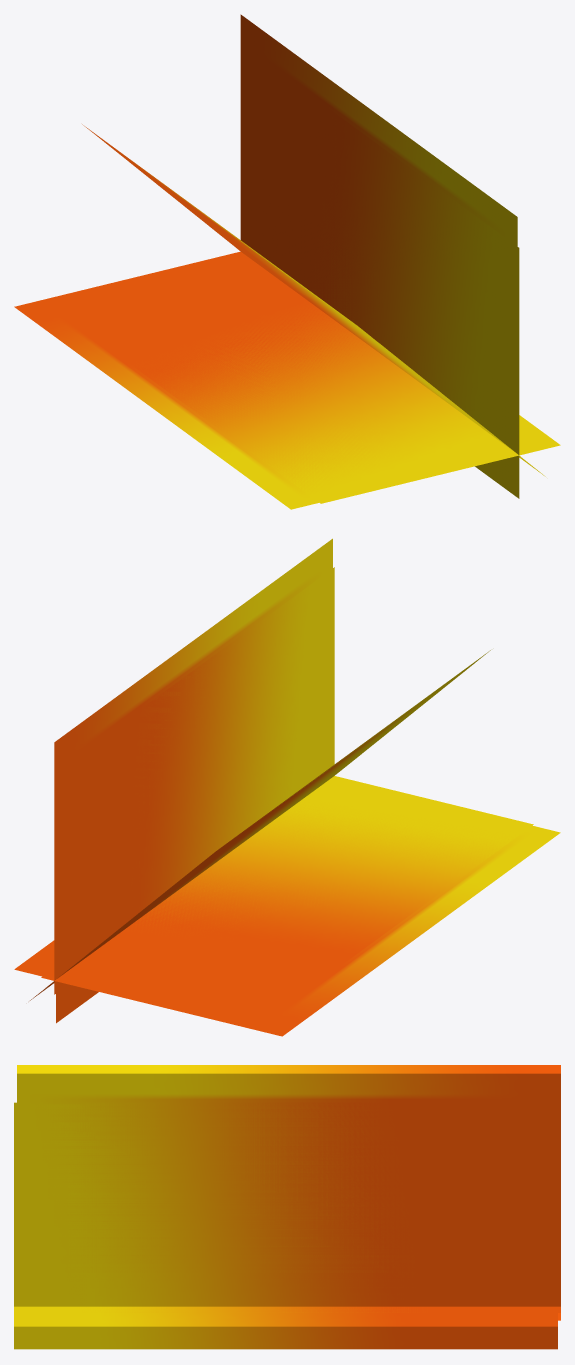
Rendered from SPARK.glb.
3 views of the same model, one above another, from view 1: azimuth 30°, elevation 25°; view 2: azimuth 150°, elevation 25°; view 3: azimuth 270°, elevation 25° (orthographic). The views are drawn at different scales.
Visible parts, largest first — view 1: Model; view 2: Model; view 3: Model.
Boxes of the visible parts, <box> form: Model: <box>14,14,560,509</box>; Model: <box>14,538,560,1036</box>; Model: <box>14,1065,560,1349</box>.
Bounding box in the file's own units: 11.18 × 11.18 × 20.11.
8 materials, 8 textured.
